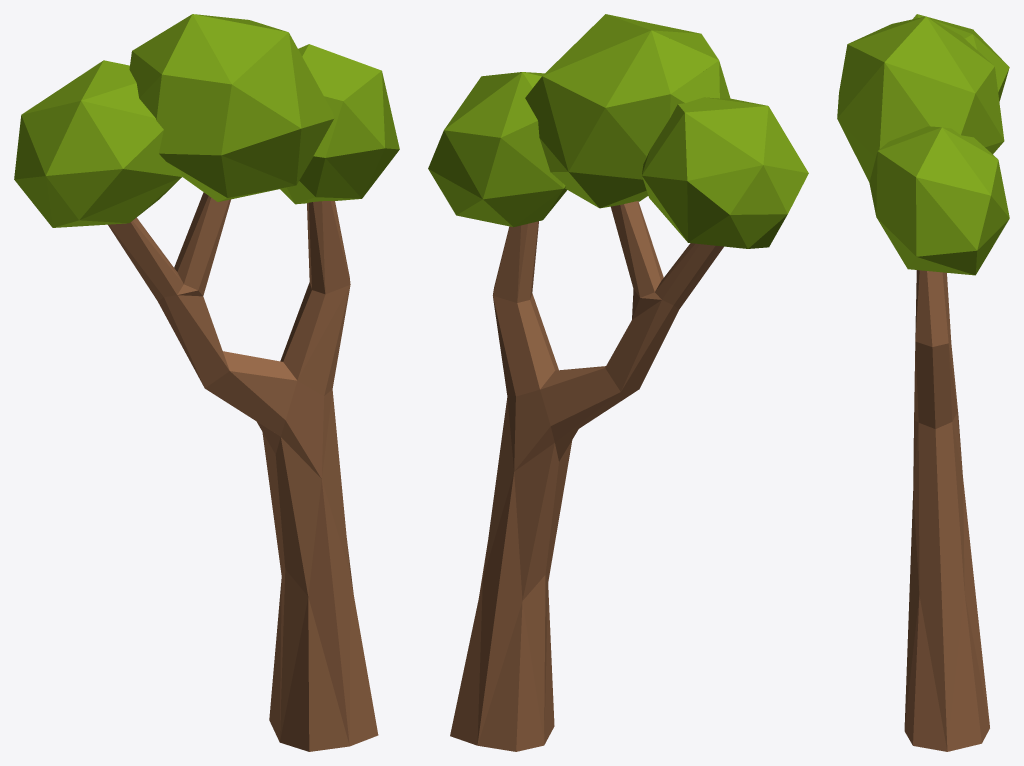
Rendered from GrowingTree-transformed.glb.
The picture shows the model from 3 angles, left to right: view 1: azimuth 30°, elevation 25°; view 2: azimuth 150°, elevation 25°; view 3: azimuth 270°, elevation 25°; orthographic projection. The views are drawn at different scales.
Parts seen in each view (by area): view 1: Object_597.001, Object_271; view 2: Object_597.001, Object_271; view 3: Object_597.001, Object_271.
Part boxes in pixels (x1,y1,x2,y2): Object_597.001: (14,14,399,227); Object_271: (108,192,378,751); Object_597.001: (428,14,808,248); Object_271: (450,201,723,751); Object_597.001: (837,14,1009,275); Object_271: (904,270,989,751).
Bounding box in the file's own units: 0.6313 × 1.26 × 0.3007.
